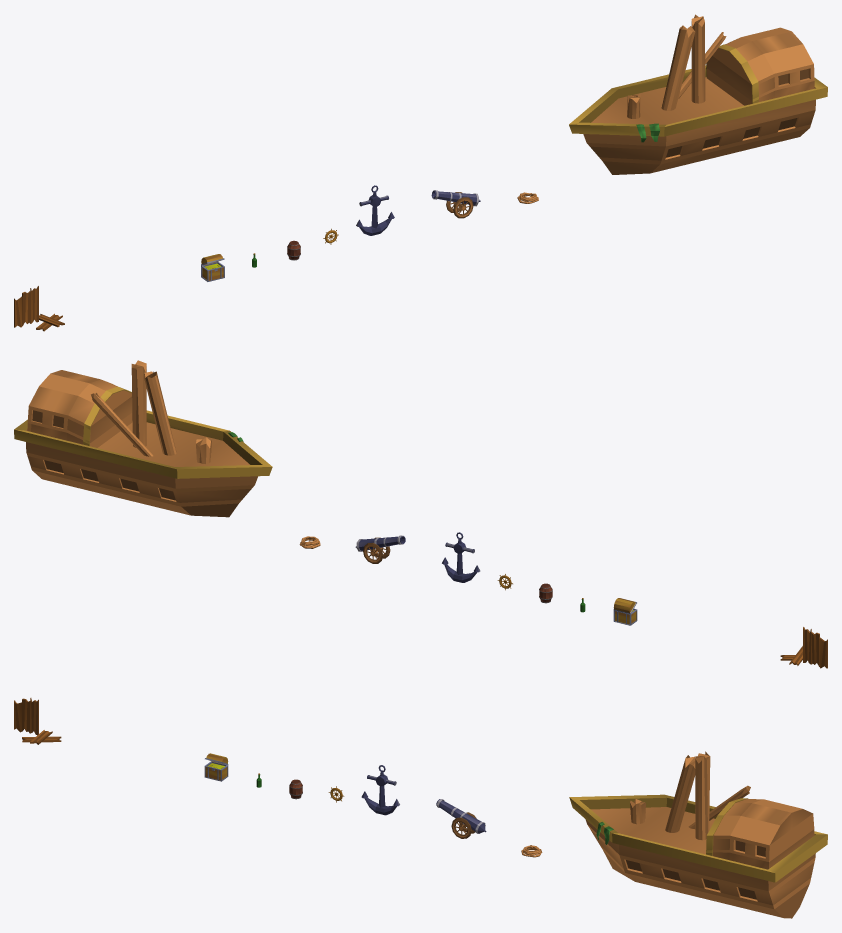
Rendered from CenarioL.fbx.
3 views of the same model, one above another, from view 1: azimuth 30°, elevation 25°; view 2: azimuth 150°, elevation 25°; view 3: azimuth 330°, elevation 25° (orthographic).
Visible parts, largest first — view 1: NavioNaufragado.001, TabuasMadeira, CanhaoFerro.001, AncoraFerro.001; view 2: NavioNaufragado.001, TabuasMadeira, CanhaoFerro.001, AncoraFerro.001, BauTesouro; view 3: NavioNaufragado.001, TabuasMadeira, CanhaoFerro.001, AncoraFerro.001, BauTesouro.
Boxes of the visible parts, <box> form: NavioNaufragado.001: <box>569,14,827,174</box>; TabuasMadeira: <box>14,286,64,331</box>; CanhaoFerro.001: <box>431,190,480,218</box>; AncoraFerro.001: <box>356,185,394,235</box>; NavioNaufragado.001: <box>14,360,272,517</box>; TabuasMadeira: <box>780,627,827,668</box>; CanhaoFerro.001: <box>355,535,405,563</box>; AncoraFerro.001: <box>442,532,480,582</box>; BauTesouro: <box>613,598,637,625</box>; NavioNaufragado.001: <box>569,751,827,918</box>; TabuasMadeira: <box>14,698,61,744</box>; CanhaoFerro.001: <box>436,799,486,838</box>; AncoraFerro.001: <box>361,765,399,815</box>; BauTesouro: <box>204,753,228,781</box>.
Bounding box in the file's own units: 5698 × 988 × 663.
